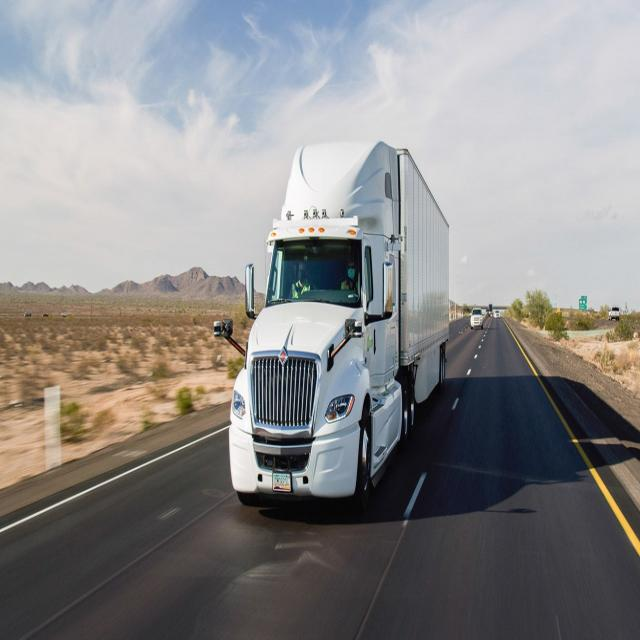truck: (210, 98, 456, 539)
